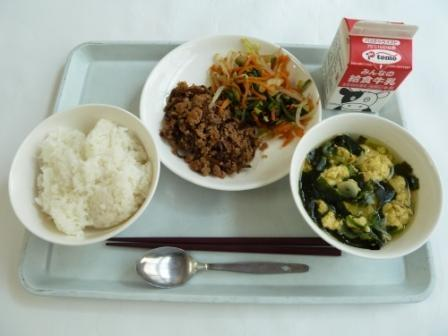Milk: (320, 12, 427, 121)
Rice: (16, 107, 146, 244)
Soups: (299, 117, 438, 257)
cooked food based on meat: (159, 82, 268, 179)
salad with sauce: (209, 37, 319, 148)
